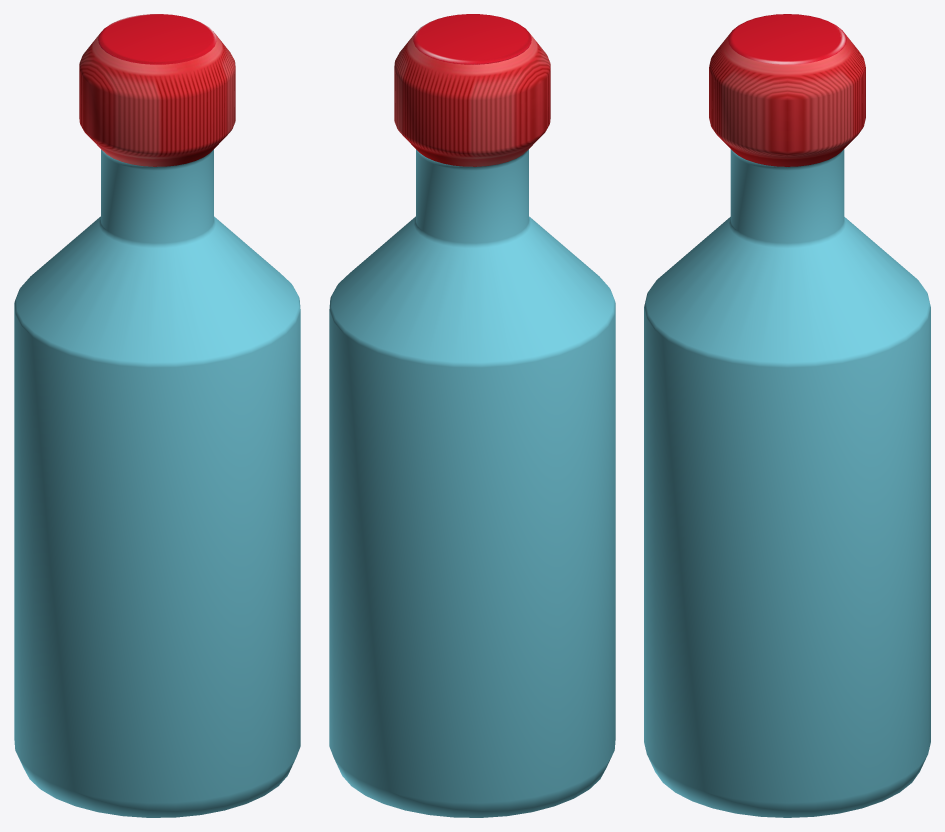
Rendered from Bottle.fbx.
3 renders of one model, left to right at view 1: azimuth 30°, elevation 25°; view 2: azimuth 150°, elevation 25°; view 3: azimuth 270°, elevation 25°, orthographic.
Parts seen in each view (by area): view 1: Cylinder; view 2: Cylinder; view 3: Cylinder.
Boxes of the visible parts, x1=… form: Cylinder: x1=14, y1=14, x2=300, y2=817; Cylinder: x1=329, y1=14, x2=615, y2=817; Cylinder: x1=644, y1=14, x2=930, y2=817.
Bounding box in the file's own units: 200 × 562 × 200.
